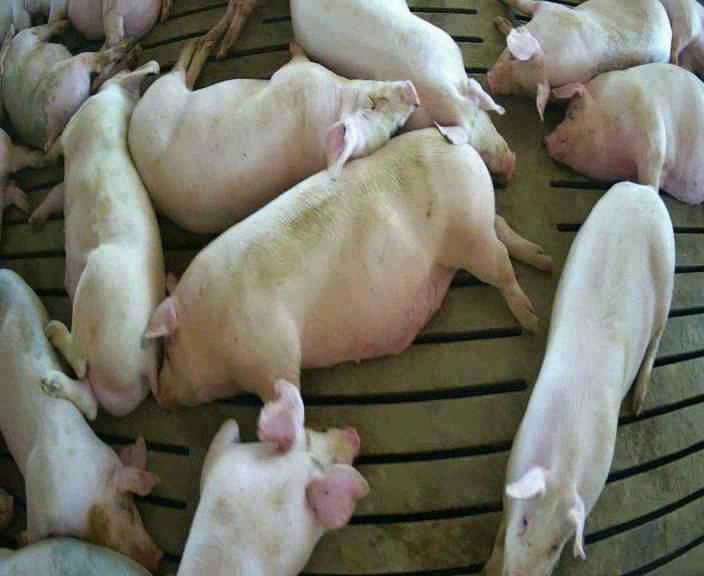pig: (149, 128, 552, 404), (487, 179, 673, 573), (129, 41, 417, 232), (29, 61, 163, 420), (291, 2, 514, 182), (178, 379, 367, 573), (545, 63, 703, 203), (488, 2, 671, 117), (24, 0, 169, 94)
